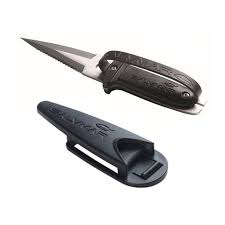knife: (19, 30, 209, 119)
